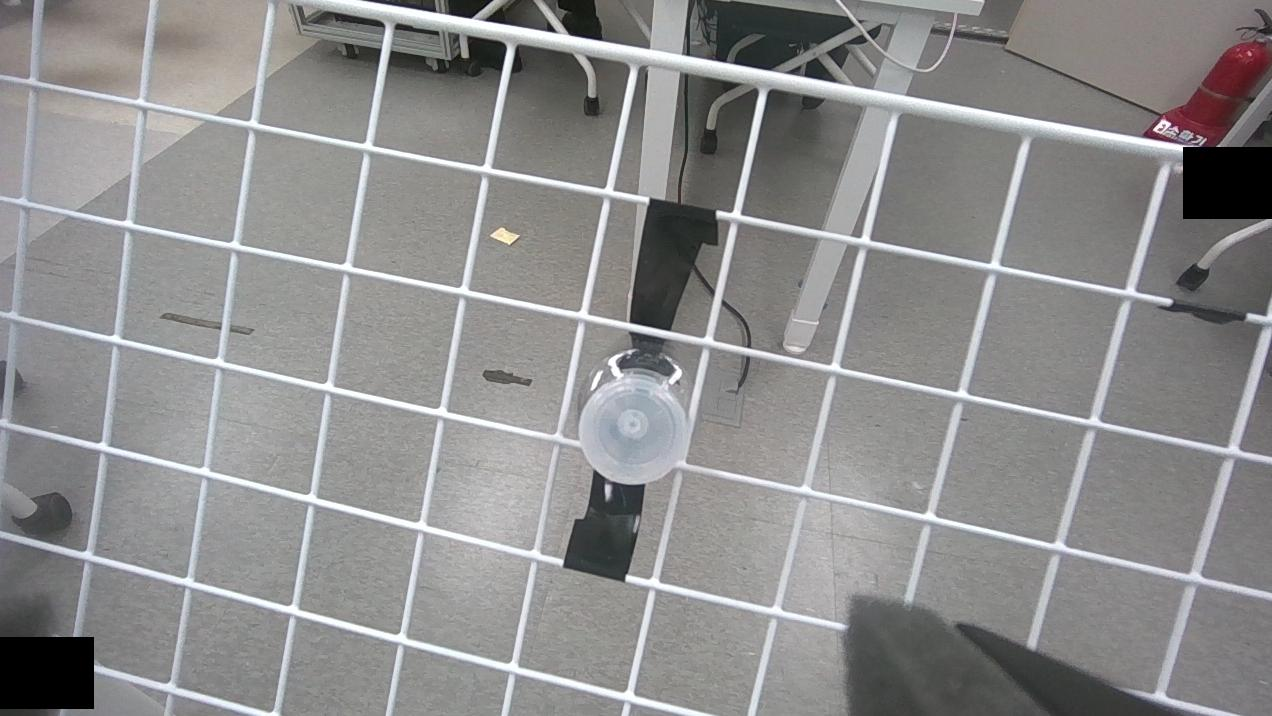Cap: (577, 375, 688, 493)
